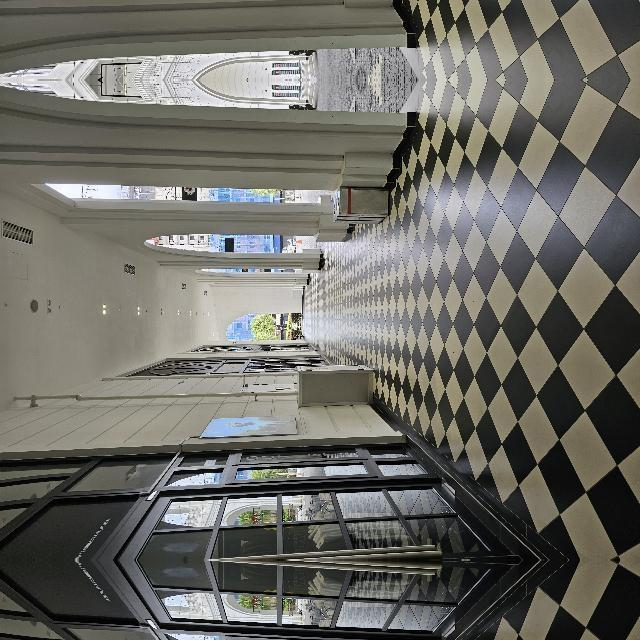obstacle: (150, 378, 196, 452), (335, 410, 371, 472)
